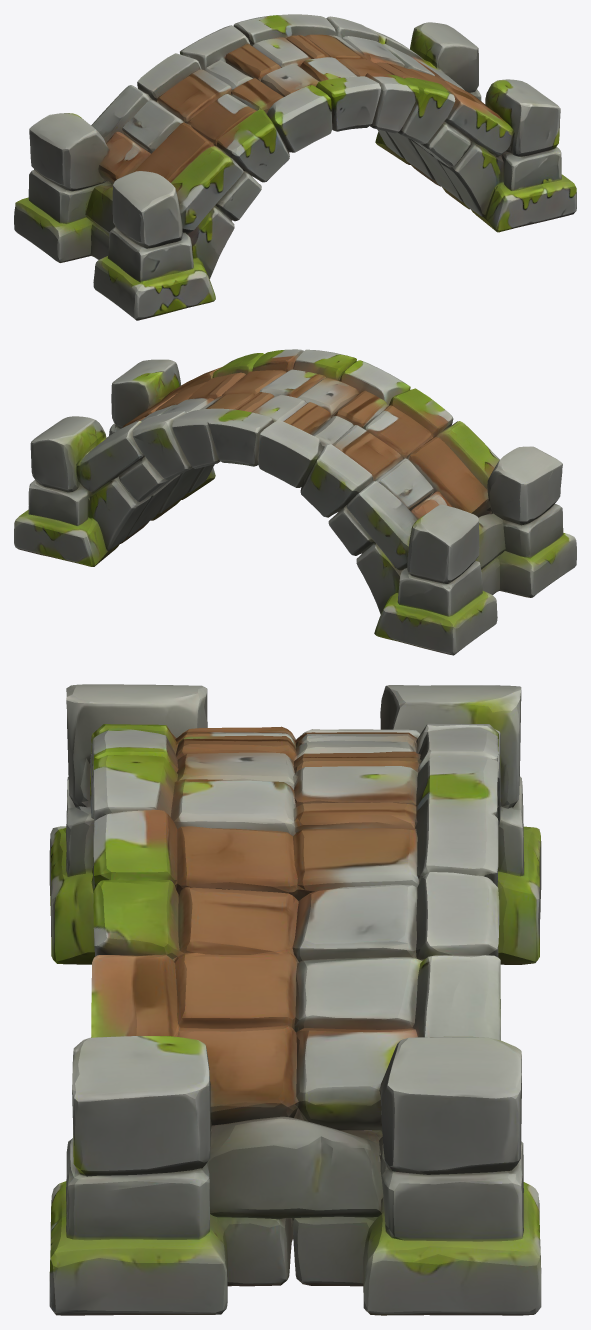
3 renders of one model, top to bottom at view 1: azimuth 30°, elevation 25°; view 2: azimuth 150°, elevation 25°; view 3: azimuth 270°, elevation 25°, orthographic. The views are drawn at different scales.
Parts seen in each view (by area): view 1: Mesh; view 2: Mesh; view 3: Mesh.
Boxes of the visible parts, bbox=[...] form: Mesh: bbox=[14, 14, 576, 320]; Mesh: bbox=[14, 349, 576, 655]; Mesh: bbox=[49, 684, 541, 1315].
Bounding box in the file's own units: 1.89 × 0.6917 × 0.9106.
Materials: 1 (1 with a texture image).
